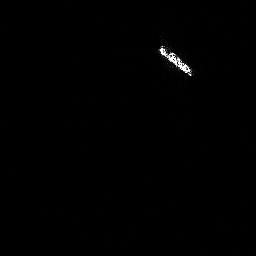ship: (155, 41, 196, 79)
